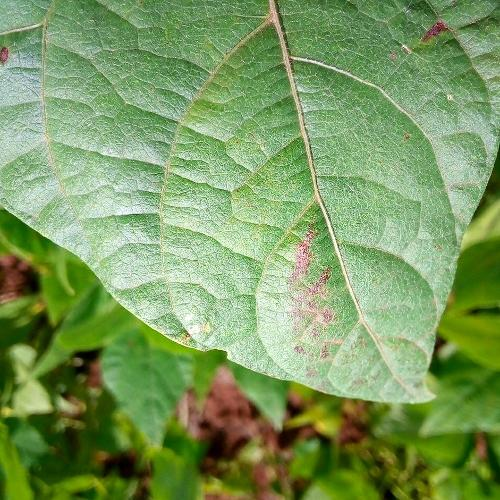hawar: (284, 214, 370, 374), (386, 2, 463, 96), (0, 33, 34, 77)
